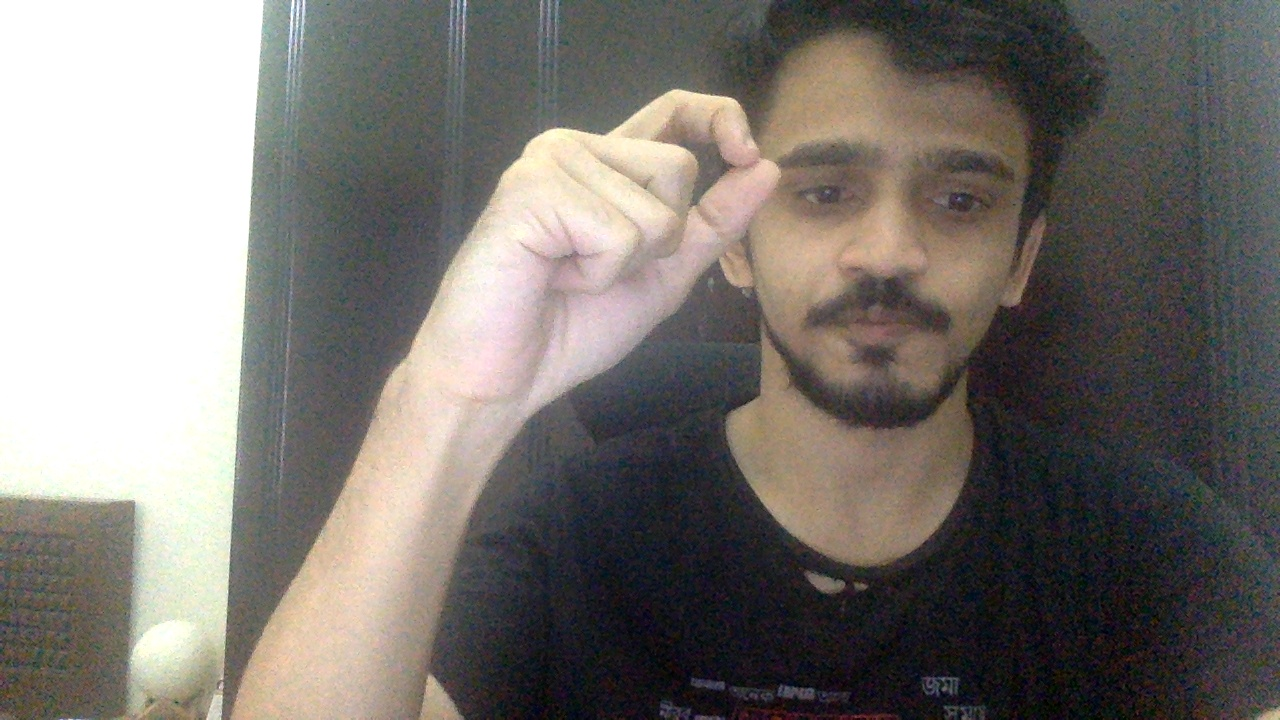zero: (409, 87, 782, 409)
